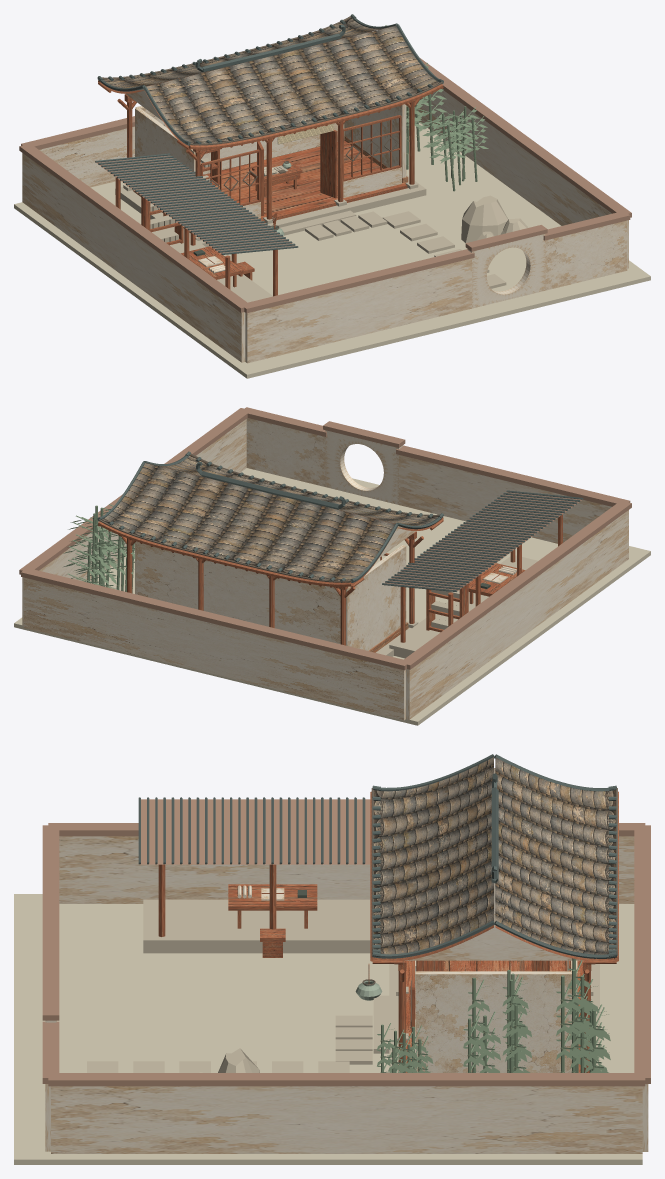
3 views of the same model, one above another, from view 1: azimuth 30°, elevation 25°; view 2: azimuth 150°, elevation 25°; view 3: azimuth 270°, elevation 25° (orthographic). The views are drawn at different scales.
Parts seen in each view (by area): view 1: xuetang__painted_plaster, xuetang__painted_roof, xuetang__shore_sand, xuetang__painted_cedar, xuetang__tile_ridges, xuetang__warm_limestone, xuetang__jade_foliage, xuetang__chibi_ink; view 2: xuetang__painted_plaster, xuetang__painted_roof, xuetang__tile_ridges, xuetang__shore_sand, xuetang__painted_cedar, xuetang__jade_foliage, xuetang__warm_limestone, xuetang__chibi_ink; view 3: xuetang__painted_plaster, xuetang__painted_roof, xuetang__shore_sand, xuetang__warm_limestone, xuetang__tile_ridges, xuetang__painted_cedar, xuetang__jade_foliage, xuetang__chibi_ink.
Boxes of the visible parts, x1,y1,x2,y2 form: xuetang__painted_plaster: (22, 32, 628, 363); xuetang__painted_roof: (19, 17, 631, 313); xuetang__shore_sand: (14, 121, 650, 378); xuetang__painted_cedar: (98, 31, 443, 296); xuetang__tile_ridges: (95, 14, 443, 254); xuetang__warm_limestone: (115, 158, 528, 302); xuetang__jade_foliage: (385, 25, 488, 191); xuetang__chibi_ink: (102, 16, 442, 241); xuetang__painted_plaster: (22, 418, 628, 720); xuetang__painted_roof: (19, 407, 631, 670); xuetang__tile_ridges: (97, 451, 583, 591); xuetang__shore_sand: (14, 468, 650, 725); xuetang__painted_cedar: (98, 469, 562, 645); xuetang__jade_foliage: (63, 504, 134, 593); xuetang__warm_limestone: (376, 555, 537, 658); xuetang__chibi_ink: (98, 453, 456, 620); xuetang__painted_plaster: (45, 768, 648, 1153); xuetang__painted_roof: (42, 757, 650, 1086); xuetang__shore_sand: (14, 894, 642, 1164); xuetang__warm_limestone: (87, 899, 599, 1072); xuetang__tile_ridges: (138, 754, 616, 958); xuetang__painted_cedar: (158, 791, 618, 1072); xuetang__jade_foliage: (377, 958, 610, 1072); xuetang__chibi_ink: (362, 788, 617, 1026).
Size of the model in its own units: 17 by 6.32 by 17.22.
Materials: 13 (4 with a texture image).
